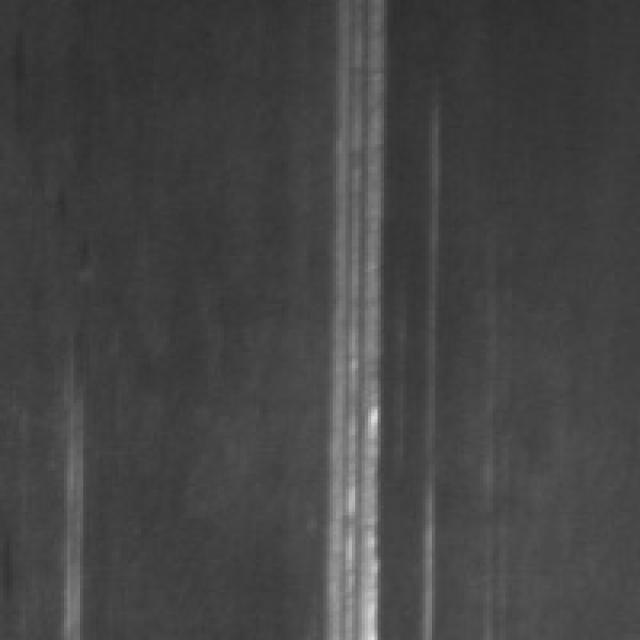scratches: (307, 0, 394, 634), (45, 358, 96, 637)
